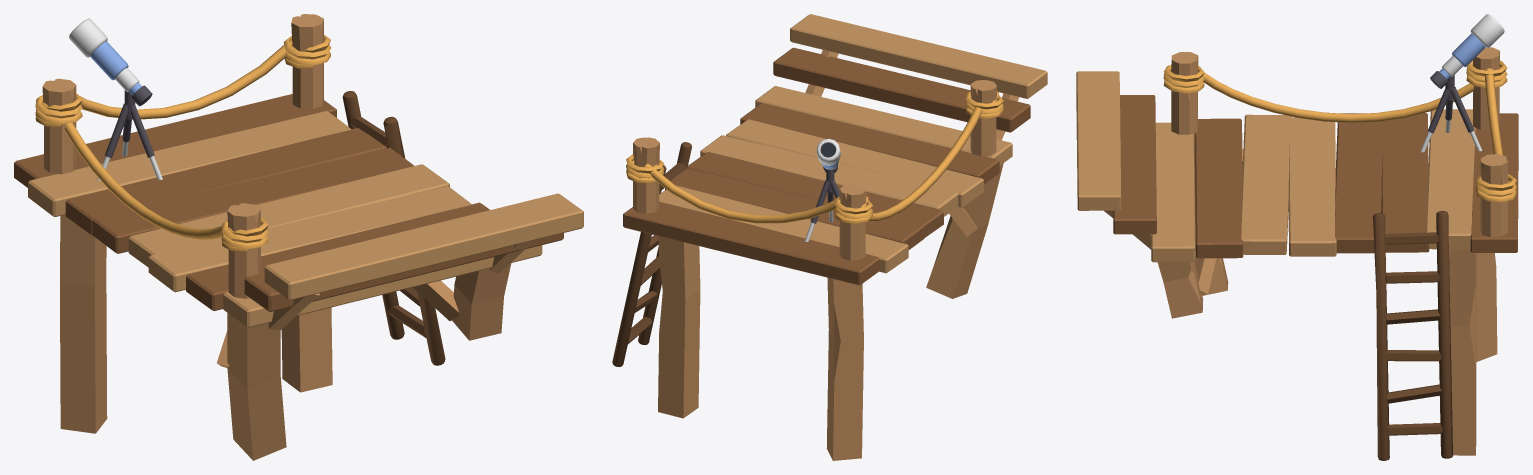
Rendered from SM_Build_02.fbx.
3 views of the same model, side by side, from view 1: azimuth 30°, elevation 25°; view 2: azimuth 150°, elevation 25°; view 3: azimuth 270°, elevation 25° (orthographic). The views are drawn at different scales.
Visible parts, largest first — view 1: Cube.203, Column_02.012, Telescope.001, Ladder.001; view 2: Cube.203, Column_02.012, Ladder.001, Telescope.001; view 3: Cube.203, Ladder.001, Column_02.012, Telescope.001.
Part boxes in pixels (bbox=[...]): Cube.203: bbox=[14, 14, 583, 460]; Column_02.012: bbox=[35, 35, 331, 251]; Telescope.001: bbox=[69, 18, 162, 180]; Ladder.001: bbox=[342, 91, 445, 365]; Cube.203: bbox=[623, 14, 1047, 460]; Column_02.012: bbox=[626, 91, 1003, 223]; Ladder.001: bbox=[612, 142, 691, 366]; Telescope.001: bbox=[804, 138, 840, 241]; Cube.203: bbox=[1076, 47, 1518, 455]; Ladder.001: bbox=[1373, 210, 1453, 460]; Column_02.012: bbox=[1163, 60, 1516, 202]; Telescope.001: bbox=[1420, 14, 1504, 152].
Bounding box in the file's own units: 7.56 × 7.94 × 9.18.
